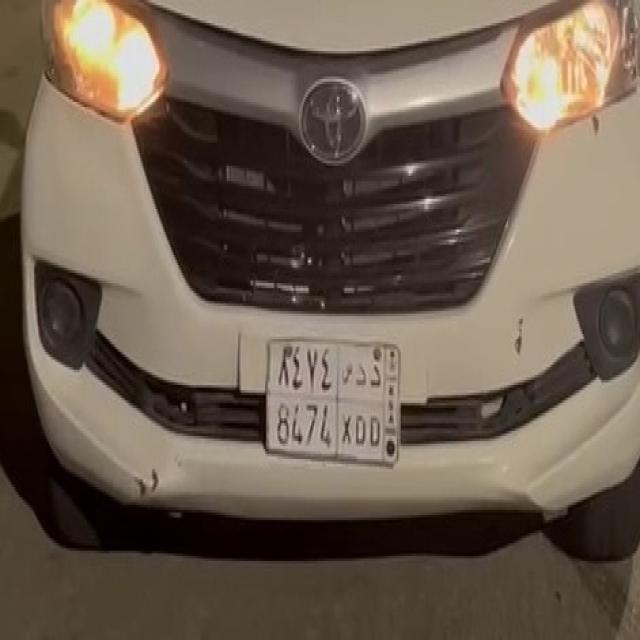Car-plate: (255, 319, 405, 471)
